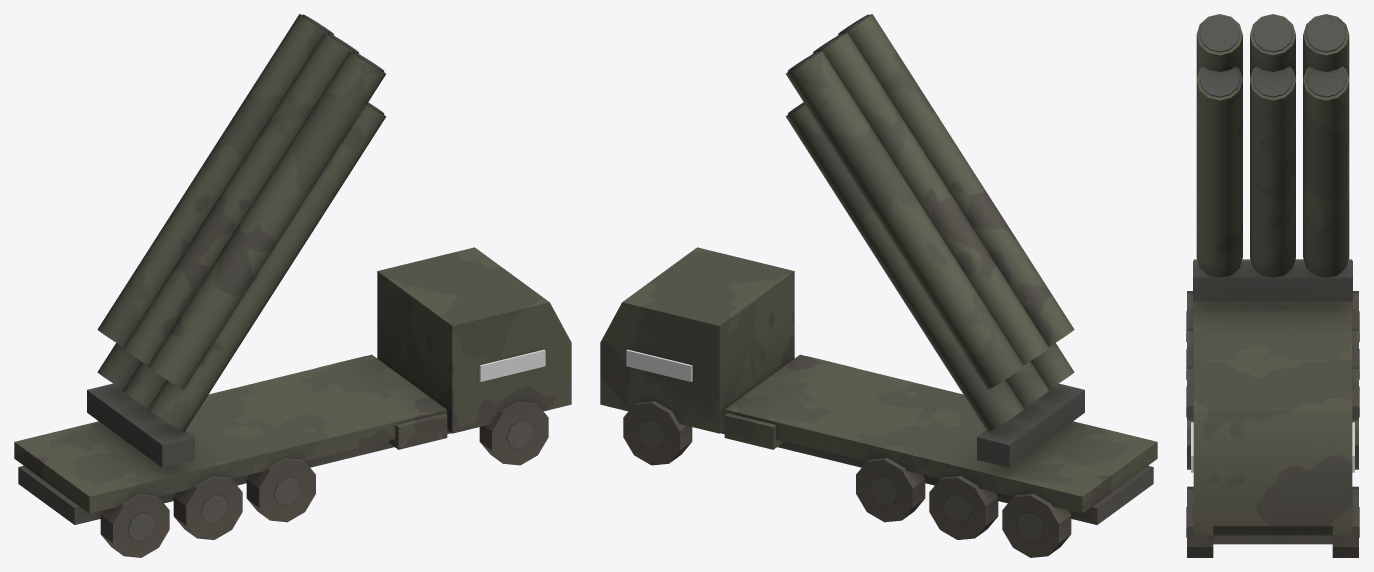
3 renders of one model, left to right at view 1: azimuth 30°, elevation 25°; view 2: azimuth 150°, elevation 25°; view 3: azimuth 270°, elevation 25°, orthographic. The views are drawn at different scales.
Visible parts, largest first — view 1: g_hq16_hull; view 2: g_hq16_hull; view 3: g_hq16_hull.
Part boxes in pixels (x1,y1,x2,y2): g_hq16_hull: [14, 14, 571, 557]; g_hq16_hull: [600, 14, 1157, 557]; g_hq16_hull: [1186, 14, 1359, 557].
Bounding box in the file's own units: 9 × 7.72 × 2.62.
2 materials, 1 textured.
